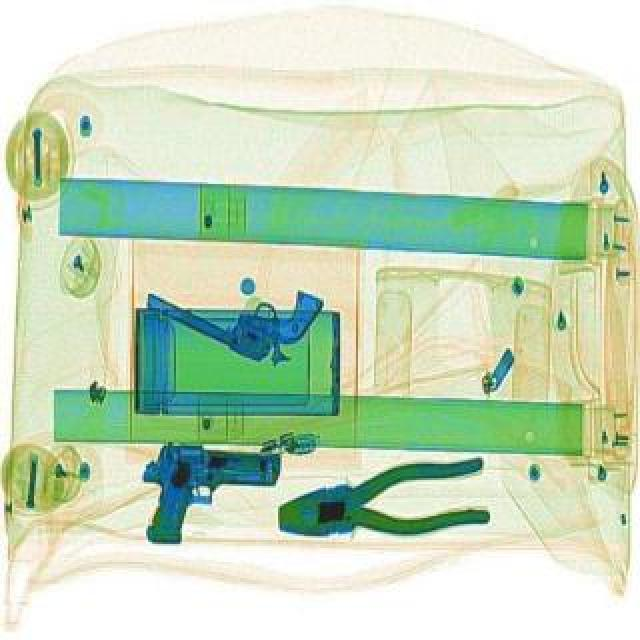gun: (138, 226, 326, 376), (138, 440, 282, 550)
wrench: (270, 452, 492, 552)
